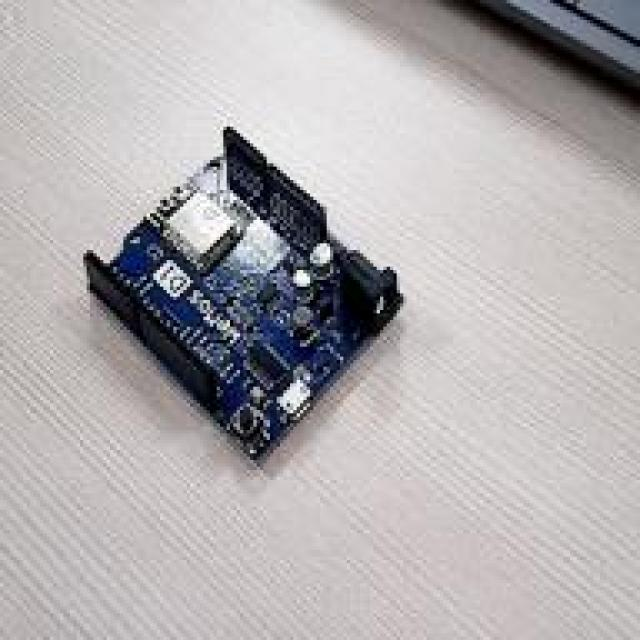Wemos: (84, 128, 401, 458)
